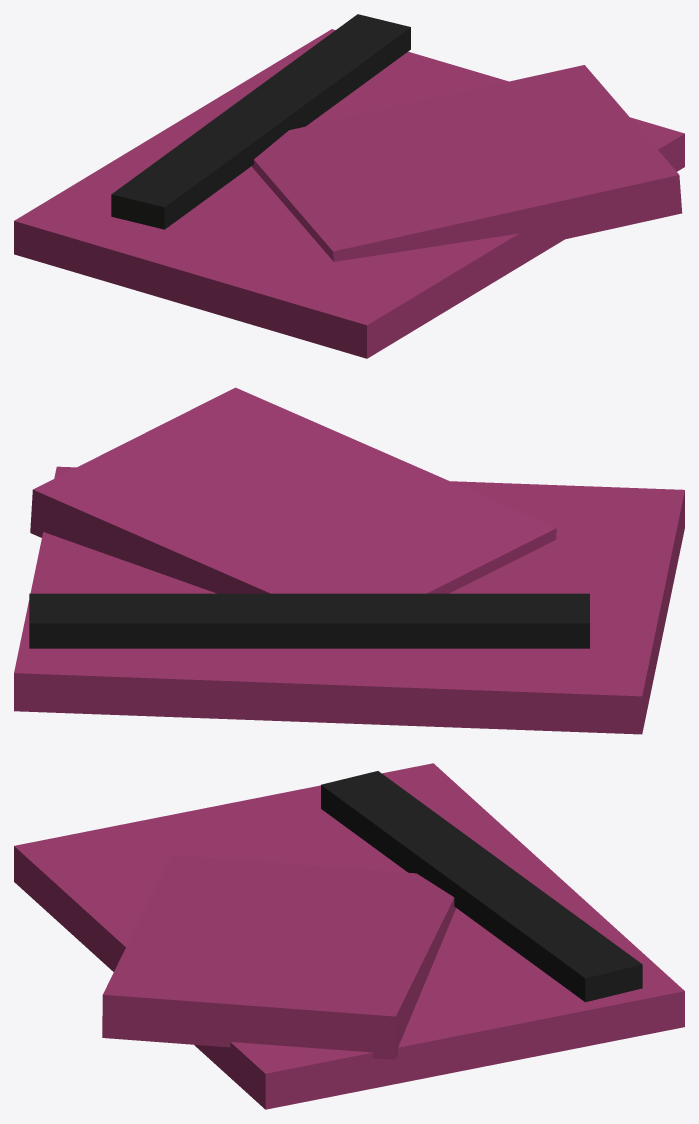
Rendered from knickers-dropped-vibe.glb.
3 views of the same model, one above another, from view 1: azimuth 30°, elevation 25°; view 2: azimuth 150°, elevation 25°; view 3: azimuth 270°, elevation 25° (orthographic). The views are drawn at different scales.
Parts seen in each view (by area): view 1: accent-magenta, rubber; view 2: accent-magenta, rubber; view 3: accent-magenta, rubber.
Part boxes in pixels (x1,y1,x2,y2): accent-magenta: [14, 29, 684, 358]; rubber: [111, 14, 410, 229]; accent-magenta: [14, 387, 684, 734]; rubber: [29, 593, 589, 648]; accent-magenta: [14, 763, 684, 1109]; rubber: [321, 771, 642, 1002].
Size of the model in its own units: 0.2223 by 0.0242 by 0.203.
